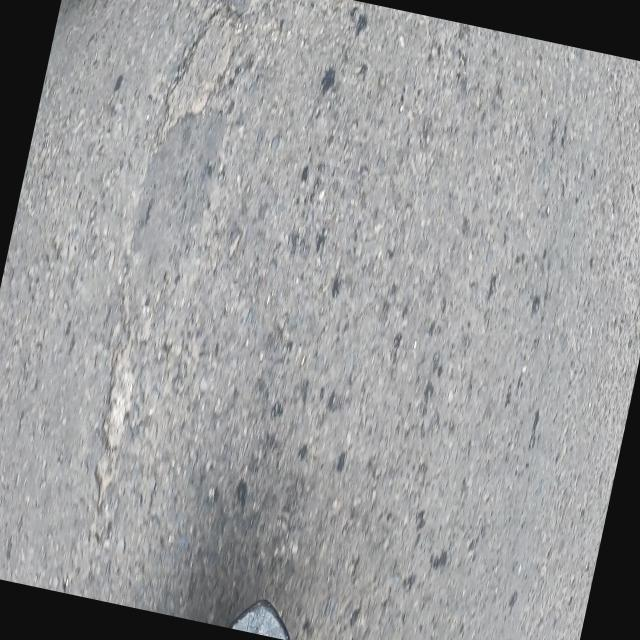Lubang: (79, 319, 148, 516), (162, 12, 233, 137)
